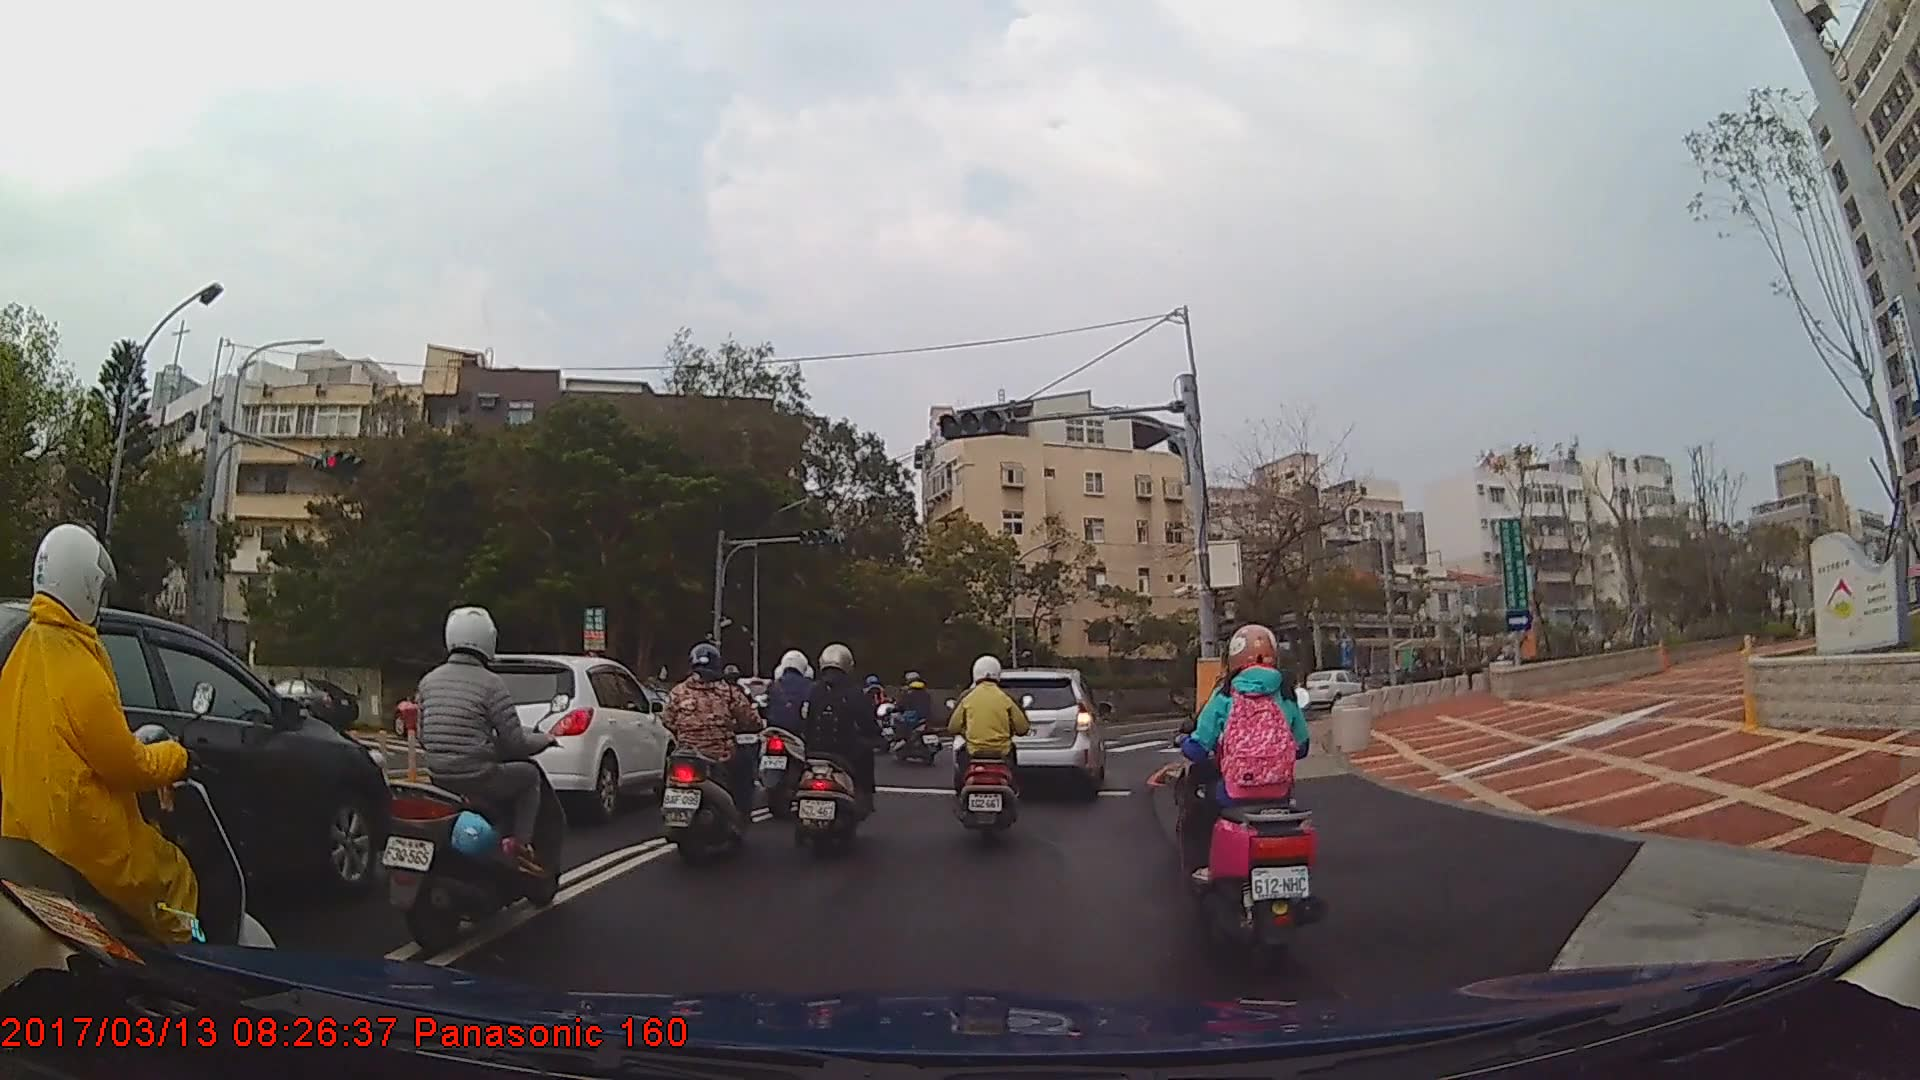rider: (2, 525, 280, 1030), (384, 605, 572, 954), (1178, 625, 1319, 947), (654, 642, 770, 869), (788, 641, 886, 858), (944, 656, 1035, 841), (756, 647, 826, 816), (878, 670, 942, 769), (853, 673, 900, 756)
vehicle: (0, 597, 394, 939), (436, 652, 679, 821), (956, 668, 1106, 798), (255, 677, 359, 733), (1298, 668, 1371, 705)
